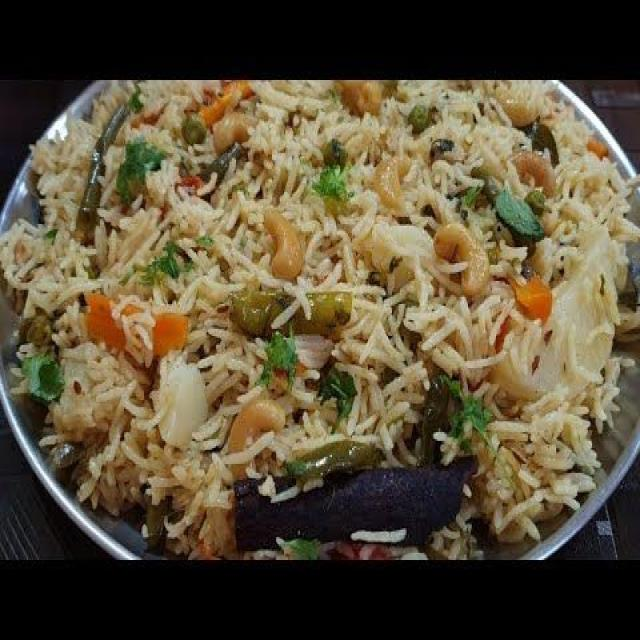veg palav: (4, 77, 640, 566)
